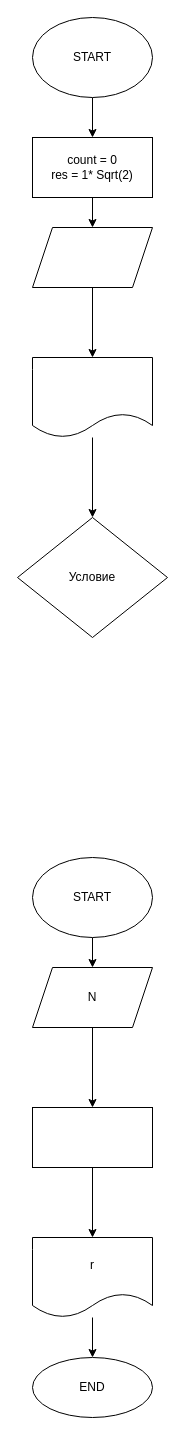
Image size: 185x1435. Some labels were removed from this diagram. The box of each missing label's shape, as (x1, y1, x2, y2) in pixels:
r = random(1,N): (32, 1106, 152, 1168)
Ввод count: (32, 226, 152, 288)
Вывод res: (32, 356, 152, 438)
